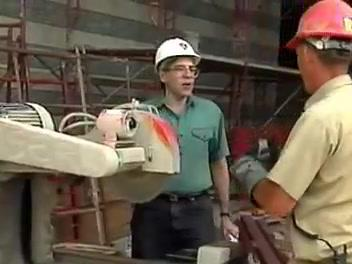no -hi-vis jacket: (272, 91, 352, 253), (144, 96, 221, 196)
no-mask: (295, 60, 329, 91), (166, 74, 202, 96)
